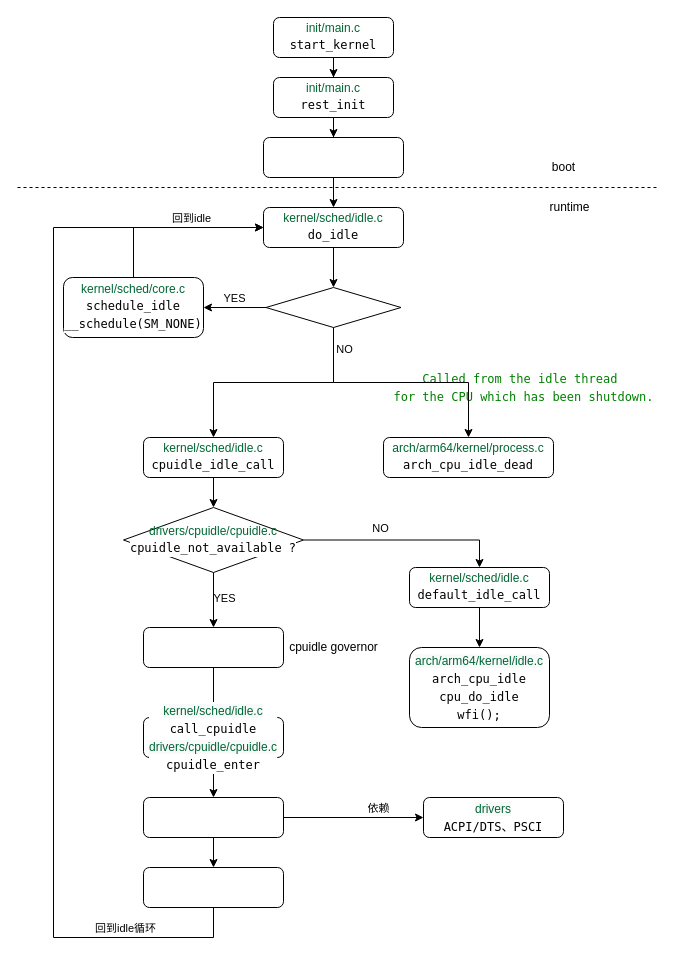
Image size: 675x963. Some labels were removed from this diagram. The box of each missing label's shape, as (x1, y1, x2, y2) in pixels:
arch/arm64/kernel cpu_startup_entry: (262, 136, 404, 178)
drivers cpuidle_register_driver(xxxdriver): (142, 796, 284, 838)
drivers/cpuidle/cpuidle.c cpuidle_select: (142, 626, 284, 668)
exit idle通知 cpuidle_reflect: (142, 866, 284, 908)
include/linux/ sched.h need_resched ?: (265, 286, 401, 328)
